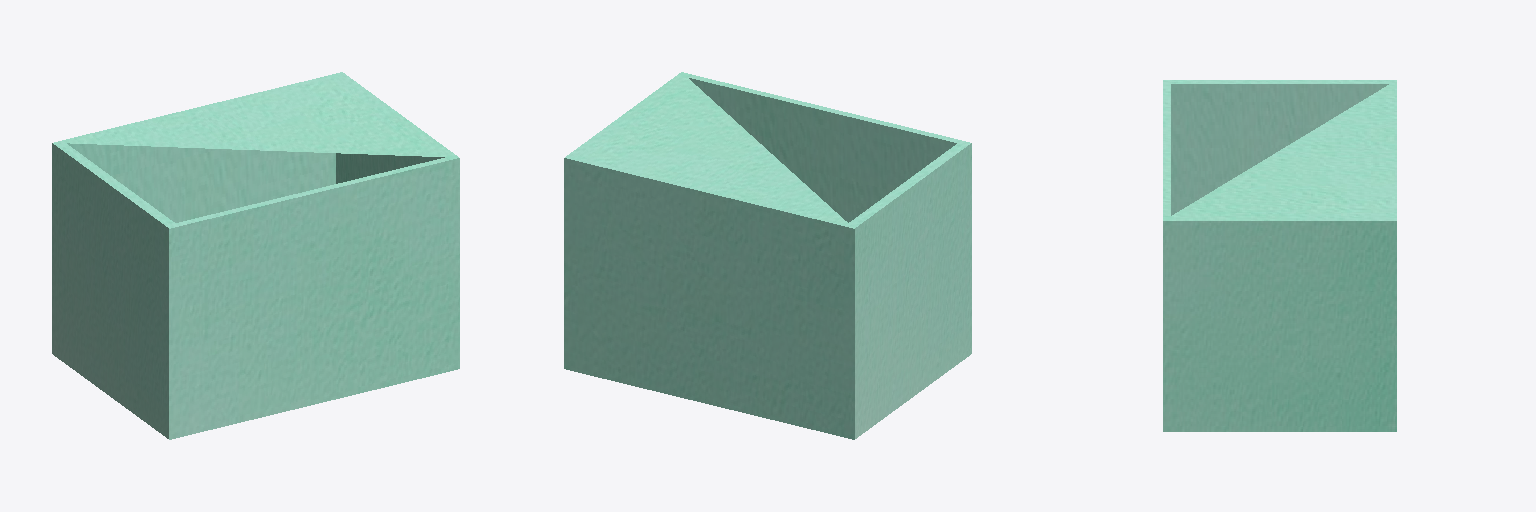
3 renders of one model, left to right at view 1: azimuth 30°, elevation 25°; view 2: azimuth 150°, elevation 25°; view 3: azimuth 270°, elevation 25°, orthographic.
Visible parts, largest first — view 1: group1_pasted__pCube1; view 2: group1_pasted__pCube1; view 3: group1_pasted__pCube1.
Part boxes in pixels (x1,y1,x2,y2): group1_pasted__pCube1: (52, 72, 459, 439); group1_pasted__pCube1: (564, 72, 971, 439); group1_pasted__pCube1: (1163, 80, 1396, 431).
Size of the model in its own units: 0.1307 by 0.0908 by 0.0915.
Materials: 1 (1 with a texture image).